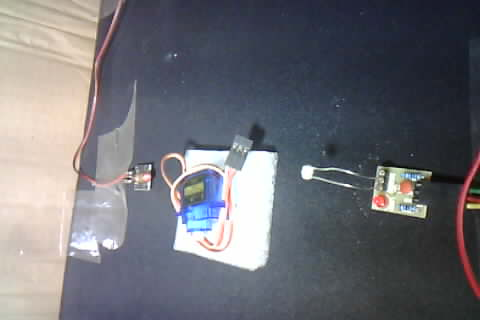motor: (153, 141, 275, 272)
